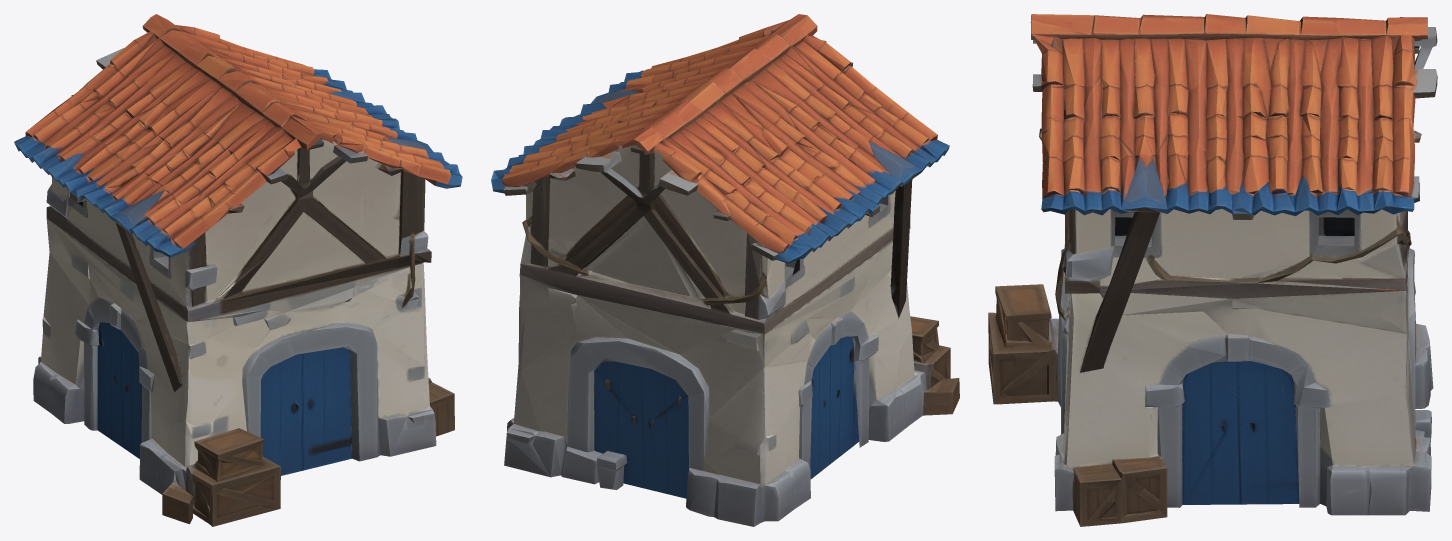
Rendered from storage.glb.
3 views of the same model, side by side, from view 1: azimuth 30°, elevation 25°; view 2: azimuth 150°, elevation 25°; view 3: azimuth 270°, elevation 25° (orthographic). The views are drawn at different scales.
Visible parts, largest first — view 1: storage; view 2: storage; view 3: storage.
Part boxes in pixels (x1,y1,x2,y2): storage: (14,14,462,526); storage: (491,14,959,526); storage: (988,14,1437,526).
Size of the model in its own units: 7.08 by 7.5 by 7.21.
Materials: 1 (1 with a texture image).
